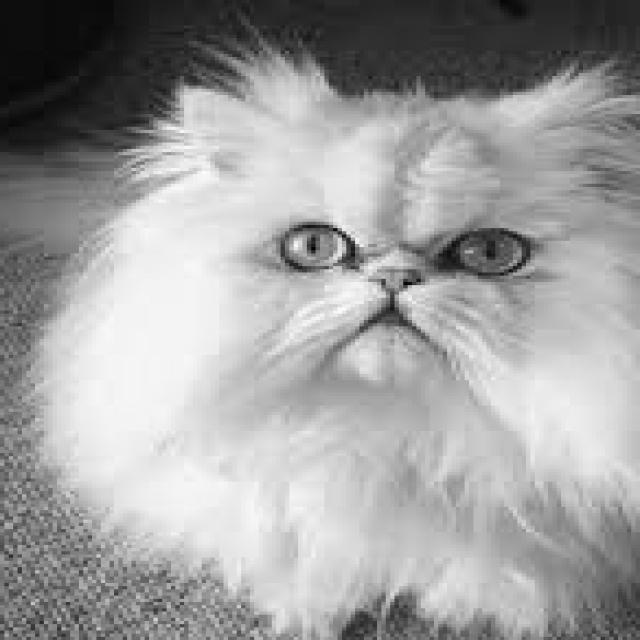iran: (226, 118, 594, 423)
